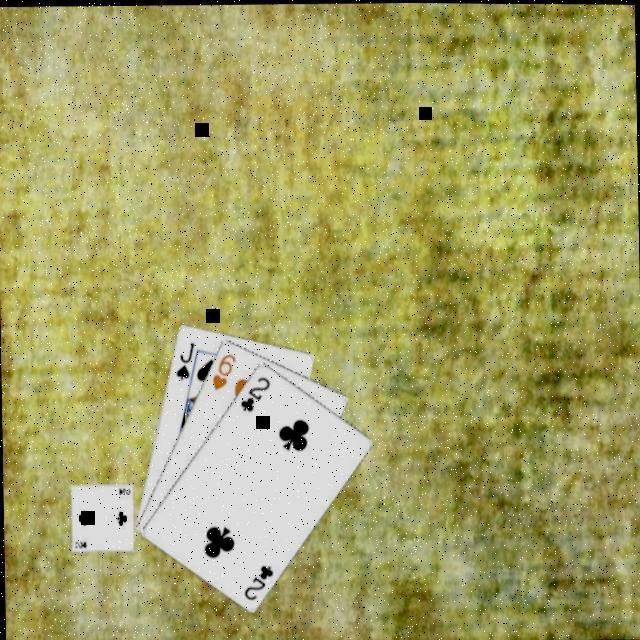2C: (238, 560, 276, 603), (235, 372, 272, 416)
6H: (207, 350, 238, 393)
JS: (170, 340, 197, 382)
